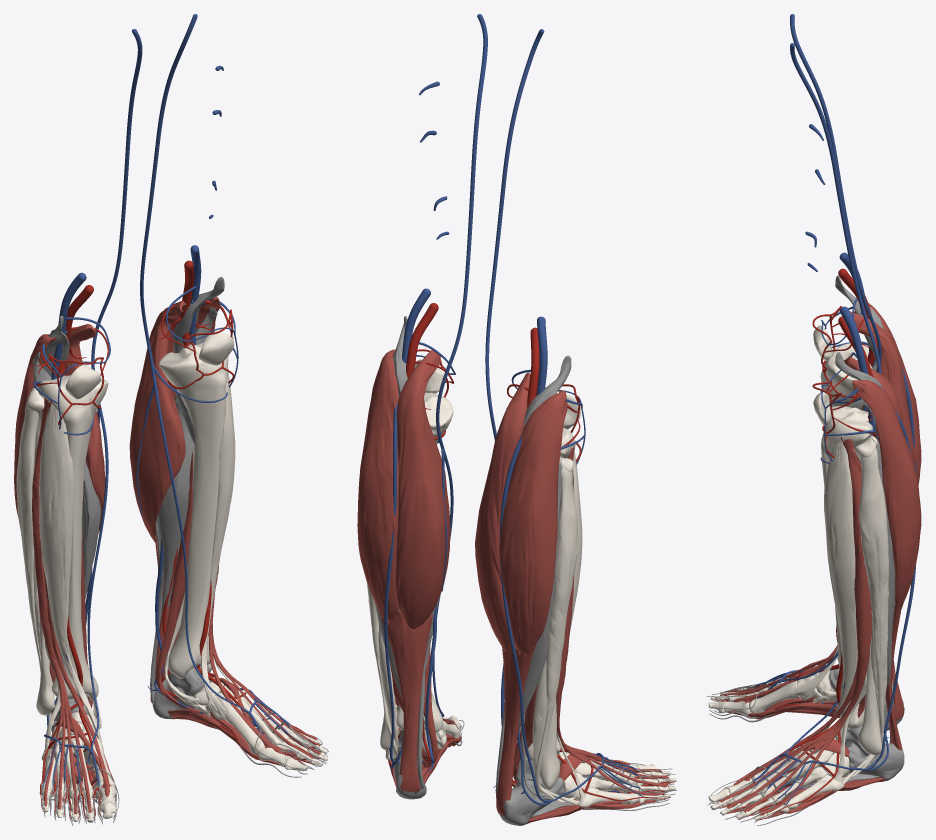
File: knee_foot.glb
3 views of the same model, side by side, from view 1: azimuth 30°, elevation 25°; view 2: azimuth 150°, elevation 25°; view 3: azimuth 270°, elevation 25° (orthographic). The views are drawn at different scales.
Parts seen in each view (by area): view 1: left tibia, medial head of left gastrocnemius, right tibialis anterior, right tibia, right extensor digitorum longus, left great saphenous vein, left tibialis anterior, right fibularis longus, left soleus, right great saphenous vein, left flexor digitorum longus, medial head of right gastrocnemius (+18 smaller); view 2: lateral head of right gastrocnemius, medial head of left gastrocnemius, lateral head of left gastrocnemius, medial head of right gastrocnemius, right fibularis longus, left calcaneal tendon, left great saphenous vein, right calcaneal tendon, right extensor digitorum longus, right great saphenous vein, right calcaneus, right soleus (+19 smaller); view 3: lateral head of left gastrocnemius, left tibialis anterior, left fibularis longus, left extensor digitorum longus, left tibia, medial head of right gastrocnemius, left great saphenous vein, left fibula, right great saphenous vein, right tibia, left calcaneus, left soleus (+23 smaller).
Part boxes in pixels (x1,y1,x2,y2): left tibia: (158, 342, 228, 678); medial head of left gastrocnemius: (129, 301, 186, 542); right tibialis anterior: (39, 404, 102, 743); right tibia: (38, 375, 108, 700); right extensor digitorum longus: (32, 398, 91, 814); left great saphenous vein: (136, 14, 244, 709); left tibialis anterior: (201, 367, 235, 717); right fibularis longus: (16, 401, 83, 750); left soleus: (156, 402, 193, 615); right great saphenous vein: (87, 29, 142, 746); left flexor digitorum longus: (156, 451, 318, 762); medial head of right gastrocnemius: (65, 324, 105, 533); lateral head of right gastrocnemius: (499, 390, 567, 654); medial head of left gastrocnemius: (395, 350, 450, 629); lateral head of left gastrocnemius: (357, 349, 398, 620); medial head of right gastrocnemius: (475, 372, 530, 651); right fibularis longus: (534, 466, 578, 802); left calcaneal tendon: (374, 600, 432, 793); left great saphenous vein: (432, 14, 487, 717); right calcaneal tendon: (496, 639, 537, 816); right extensor digitorum longus: (556, 444, 668, 795); right great saphenous vein: (485, 29, 592, 753); right calcaneus: (499, 777, 564, 825); right soleus: (518, 456, 562, 727); lateral head of left gastrocnemius: (852, 380, 921, 614); left tibialis anterior: (819, 441, 857, 733); left fibularis longus: (842, 448, 888, 780); left extensor digitorum longus: (720, 437, 872, 815); left tibia: (821, 406, 872, 729); medial head of right gastrocnemius: (850, 311, 914, 463); left great saphenous vein: (785, 43, 881, 753); left fibula: (854, 435, 881, 755); right great saphenous vein: (785, 14, 881, 680); right tibia: (820, 343, 872, 665); left calcaneus: (847, 743, 904, 781); left soleus: (870, 436, 895, 685).
Size of the model in its own units: 0.3409 by 0.8731 by 0.2324.
